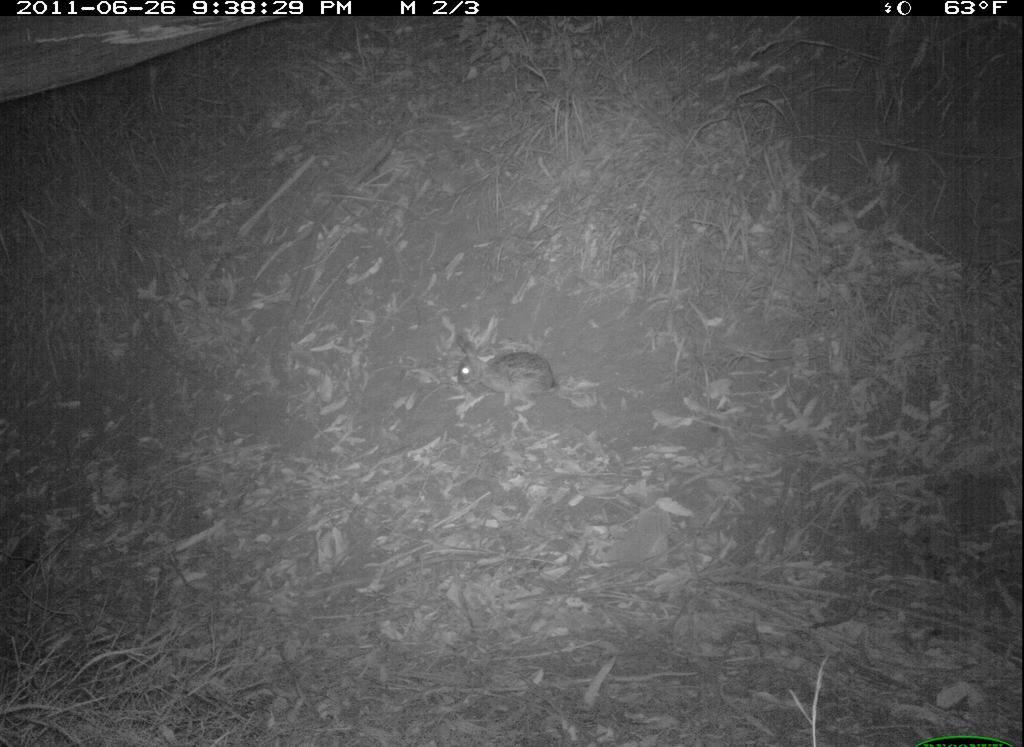rabbit: (449, 327, 561, 418)
